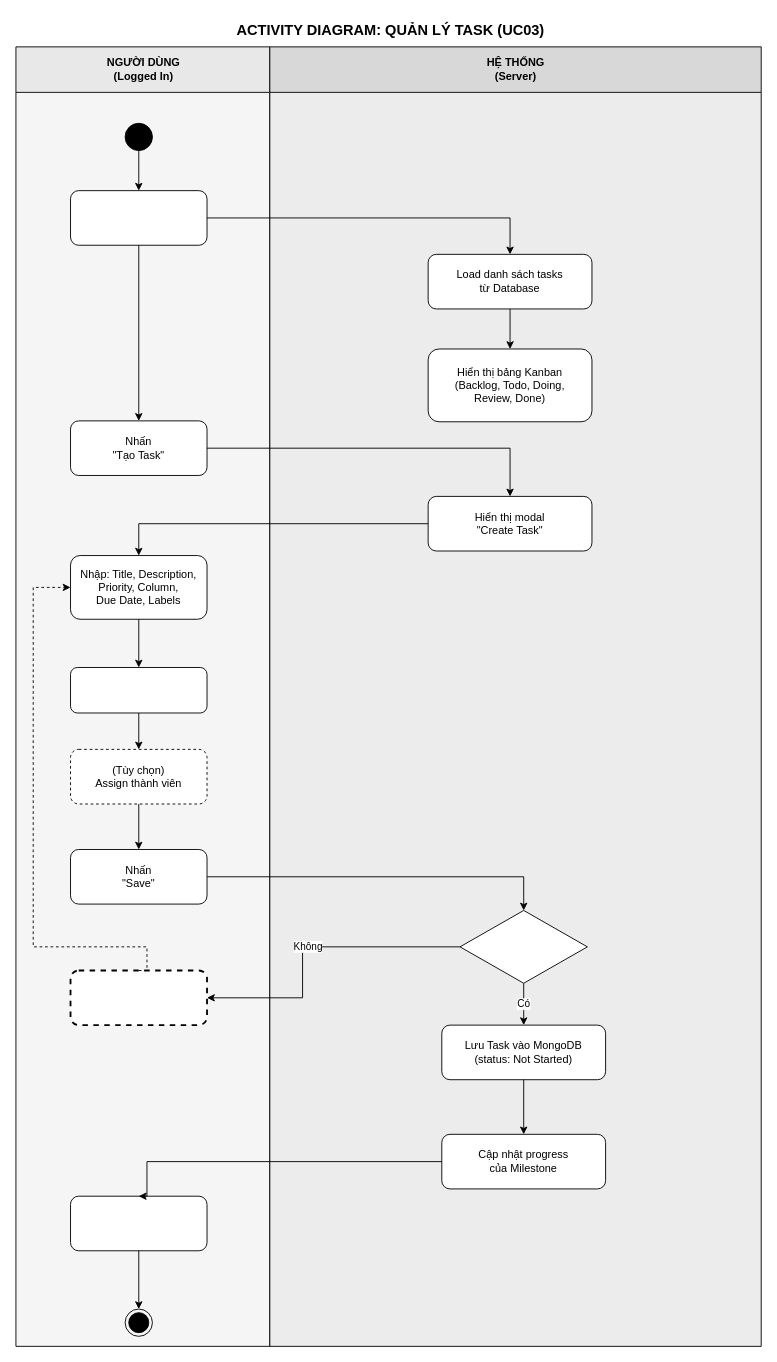
The diagram is 777 pixels wide and 1362 high, and some of its shapes have lost their labels. Each missing label, with the centre of its shape:
Chọn Milestone: [138,690]
Dữ liệu hợp lệ?: [523,946]
Hiển thị lỗi "Title is required": [138,997]
Task hiển thị trên board Kanban: [138,1223]
Vào tab "Tasks" của Project Hub: [138,217]
